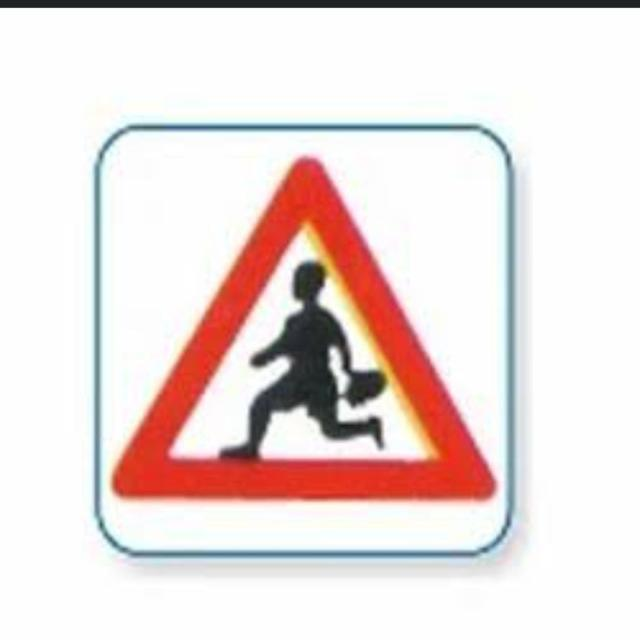school_ahead: (109, 142, 506, 507)
